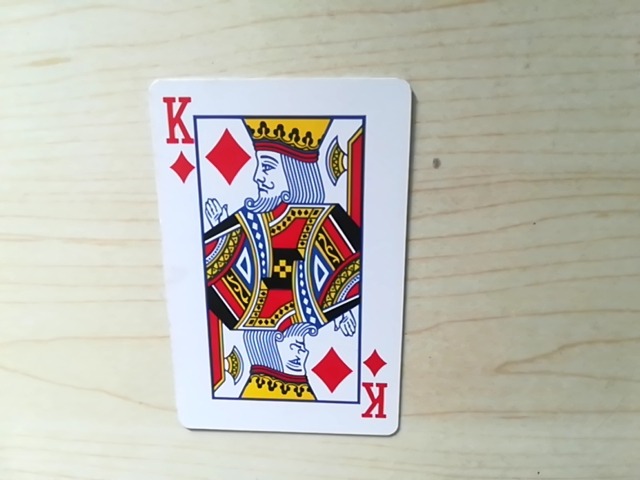fk k: (154, 90, 199, 143), (360, 359, 393, 426)
